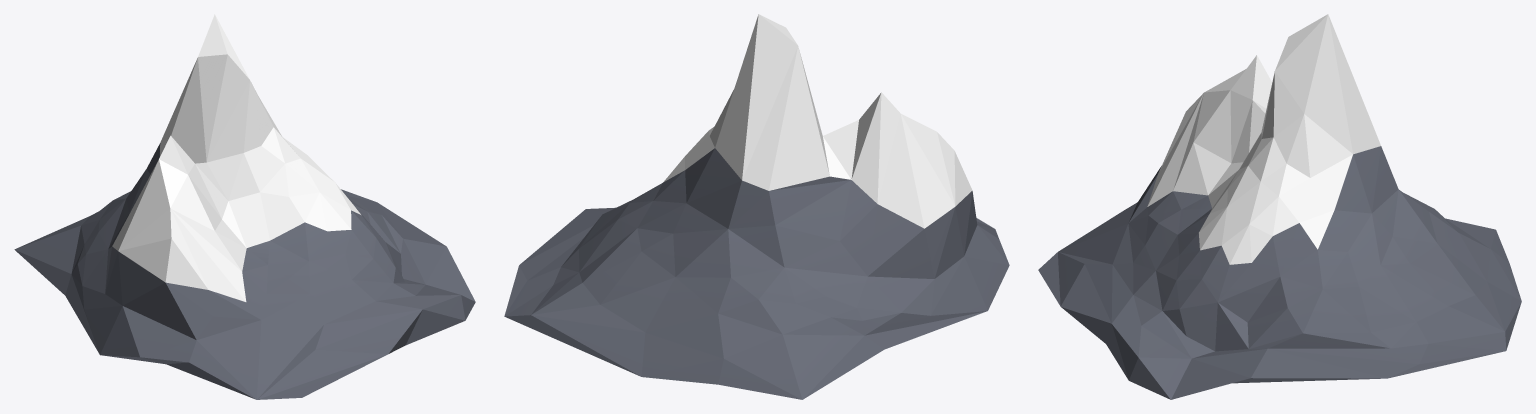
The model's file is Mountain_04.fbx.
The picture shows the model from 3 angles, left to right: view 1: azimuth 30°, elevation 25°; view 2: azimuth 150°, elevation 25°; view 3: azimuth 270°, elevation 25°; orthographic projection. The views are drawn at different scales.
Visible parts, largest first — view 1: Mountain_04; view 2: Mountain_04; view 3: Mountain_04.
Part boxes in pixels (x1,y1,x2,y2): Mountain_04: (14,14,475,399); Mountain_04: (504,14,1009,399); Mountain_04: (1038,14,1521,399).
Size of the model in its own units: 71.7 by 53.38 by 80.37.
